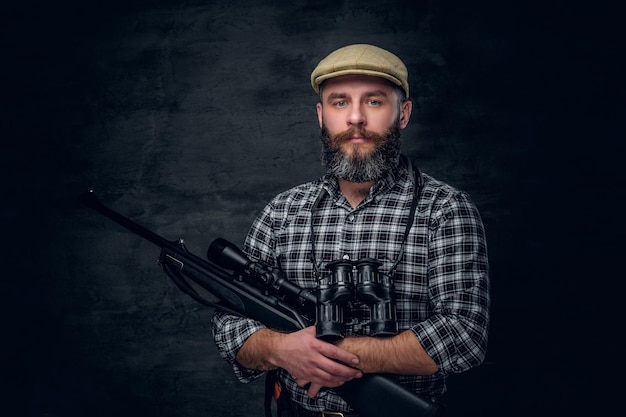gun: (104, 208, 436, 415)
